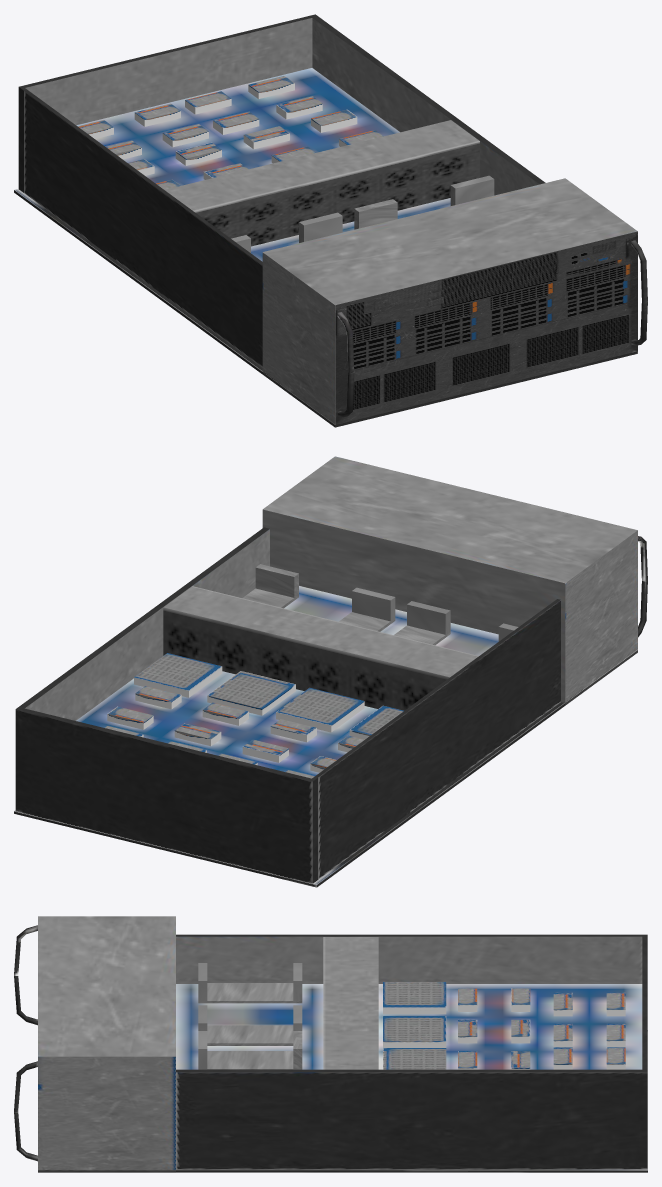
The model's file is Gigabyte-G481-S80.fbx.
3 renders of one model, top to bottom at view 1: azimuth 30°, elevation 25°; view 2: azimuth 150°, elevation 25°; view 3: azimuth 270°, elevation 25°, orthographic. The views are drawn at different scales.
Parts seen in each view (by area): view 1: Gigabyte_G481_S80_LP; view 2: Gigabyte_G481_S80_LP; view 3: Gigabyte_G481_S80_LP.
Boxes of the visible parts, x1,y1,x2,y2 form: Gigabyte_G481_S80_LP: (14,14,647,427); Gigabyte_G481_S80_LP: (14,456,647,887); Gigabyte_G481_S80_LP: (14,916,647,1172).
Bounding box in the file's own units: 45.39 × 17.53 × 86.66.
Materials: 1 (1 with a texture image).
